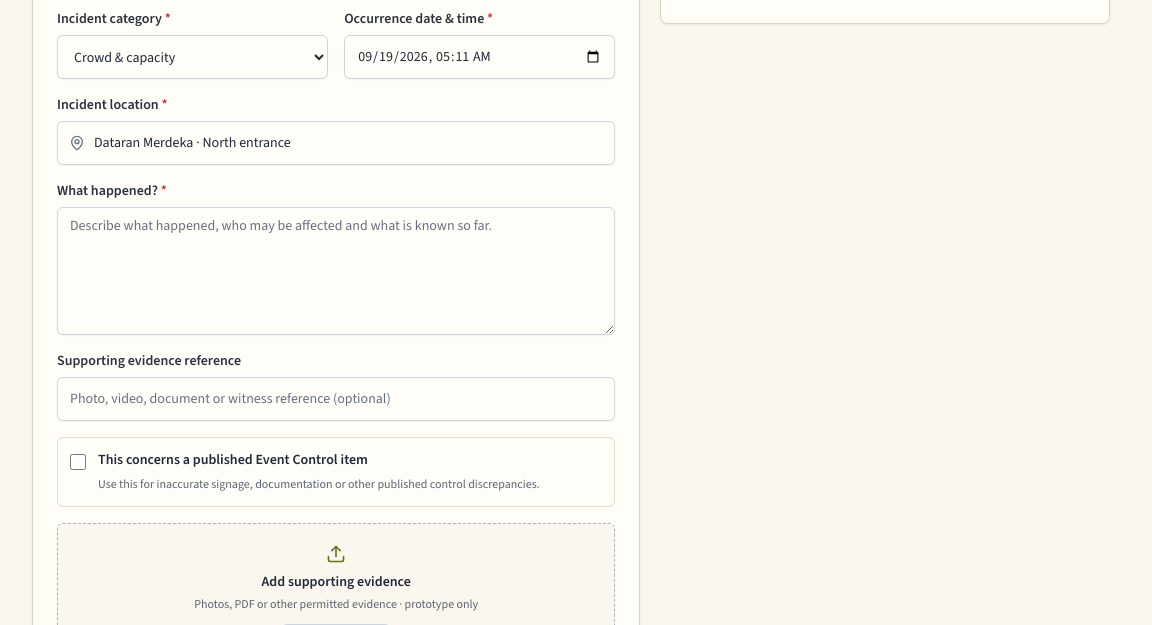
Test: IncidentReportingPrototype integration boundary › rejects incomplete or future-dated prototype submissions
(page scrolled)
Replace the text in the text box labelled "What happened? *" with "A barrier blocked the marked emergency access route." at (336, 271), box left=57, top=207, right=615, bottom=335
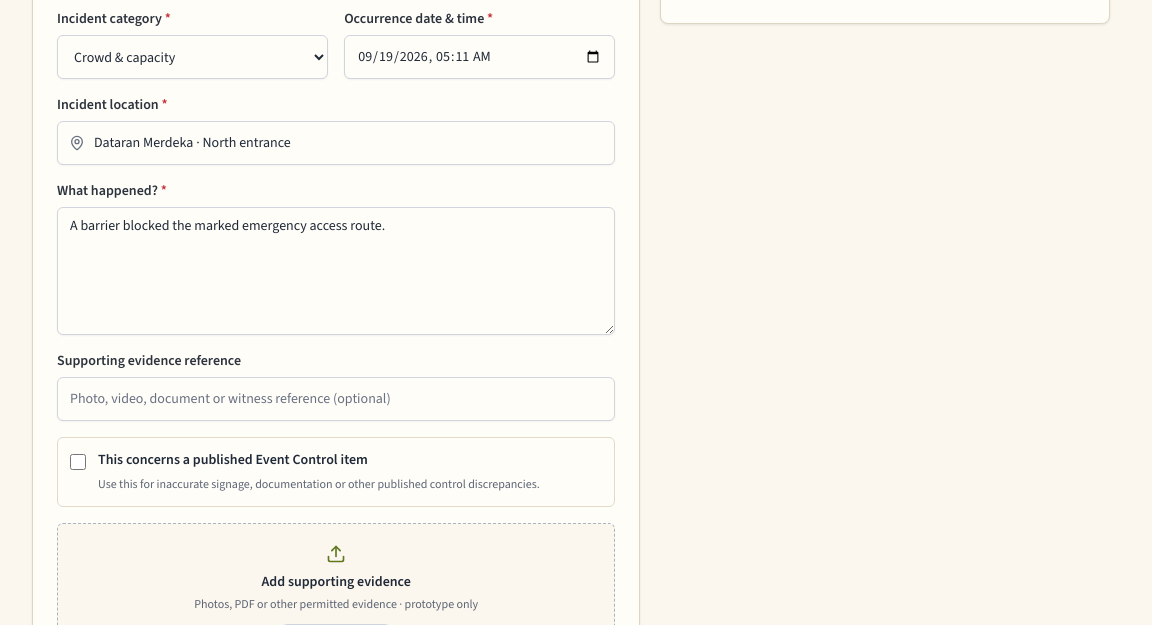
Replace the text in the field labelled "Occurrence date & time *" with "2999-01-01T12:00" at (480, 57), box left=344, top=35, right=615, bottom=79
(page scrolled)
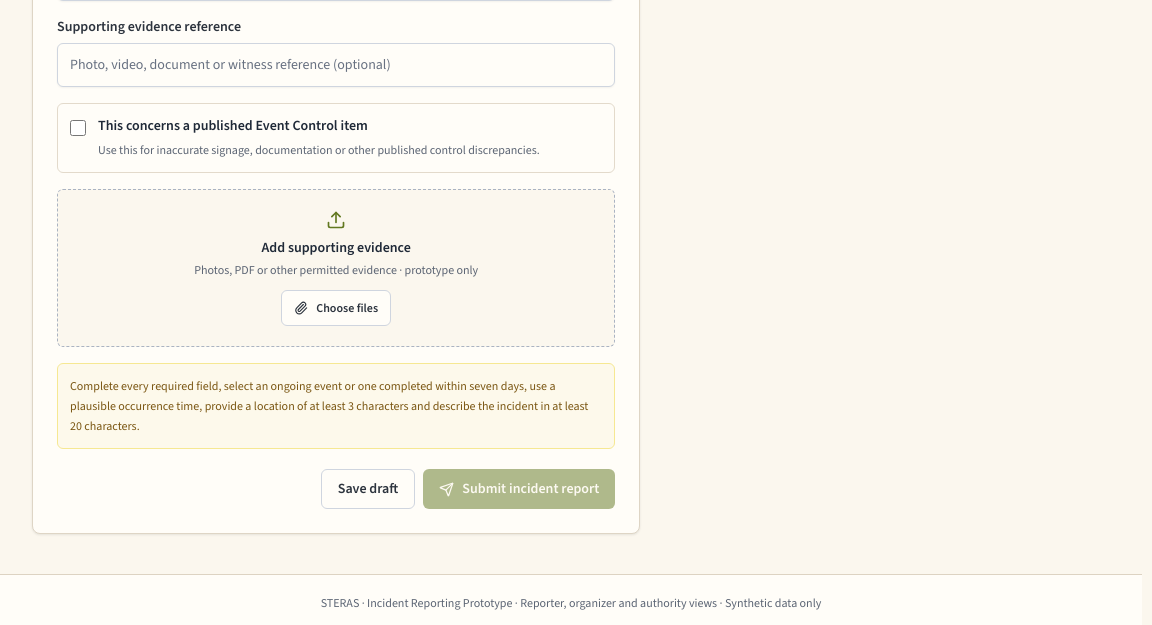
expect the button "Submit incident report" is disabled: met, box left=423, top=469, right=615, bottom=509
